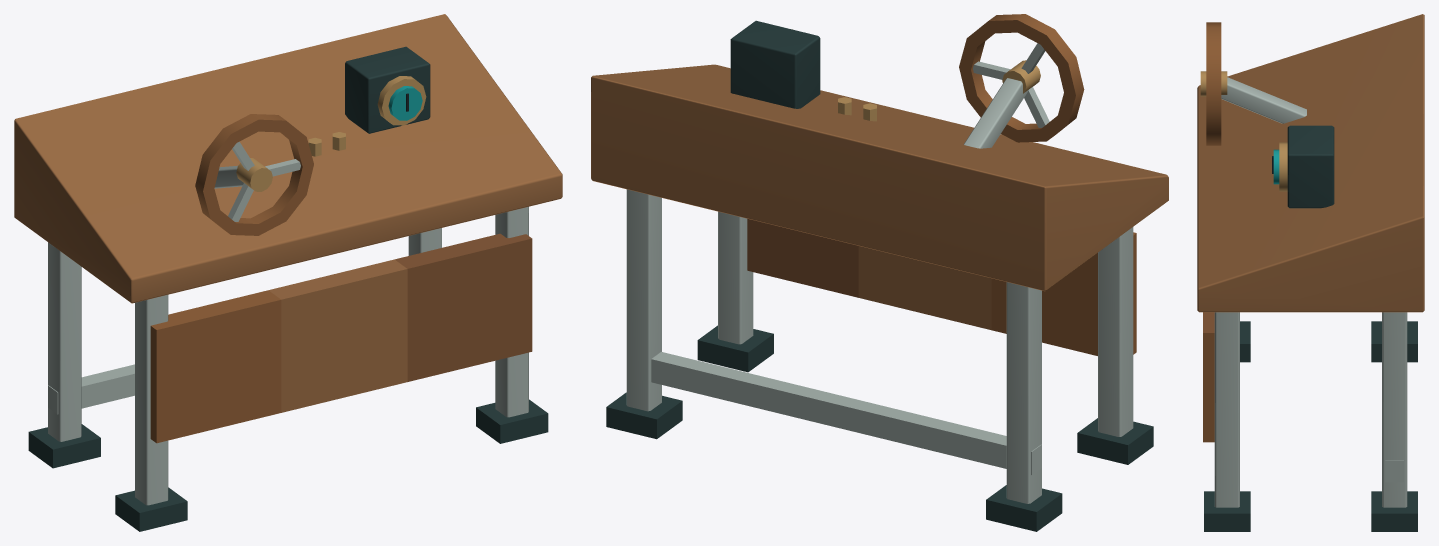
The model's file is helm-lod0.glb.
3 views of the same model, side by side, from view 1: azimuth 30°, elevation 25°; view 2: azimuth 150°, elevation 25°; view 3: azimuth 270°, elevation 25° (orthographic). The views are drawn at different scales.
Parts seen in each view (by area): view 1: SM_HelmConsole_V3_LOD0; view 2: SM_HelmConsole_V3_LOD0; view 3: SM_HelmConsole_V3_LOD0.
Part boxes in pixels (x1,y1,x2,y2): SM_HelmConsole_V3_LOD0: (14,14,562,531); SM_HelmConsole_V3_LOD0: (591,14,1168,531); SM_HelmConsole_V3_LOD0: (1197,14,1424,531).
Bounding box in the file's own units: 1.44 × 1.21 × 0.68.
